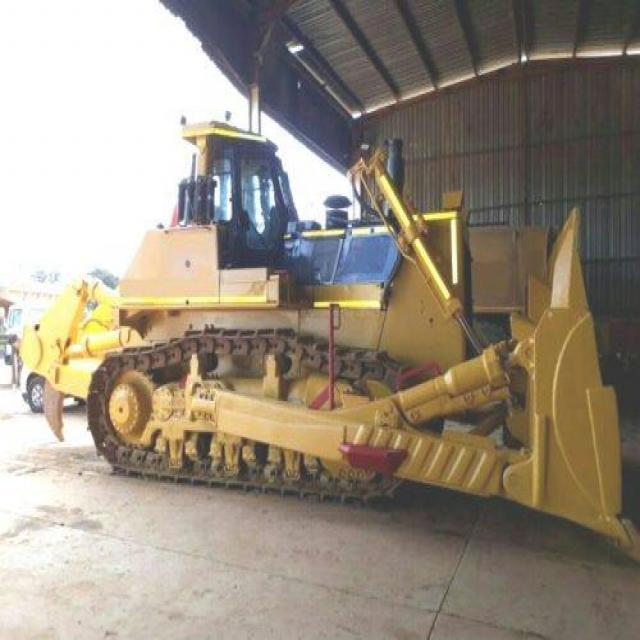Bulldozer: (21, 108, 634, 551)
